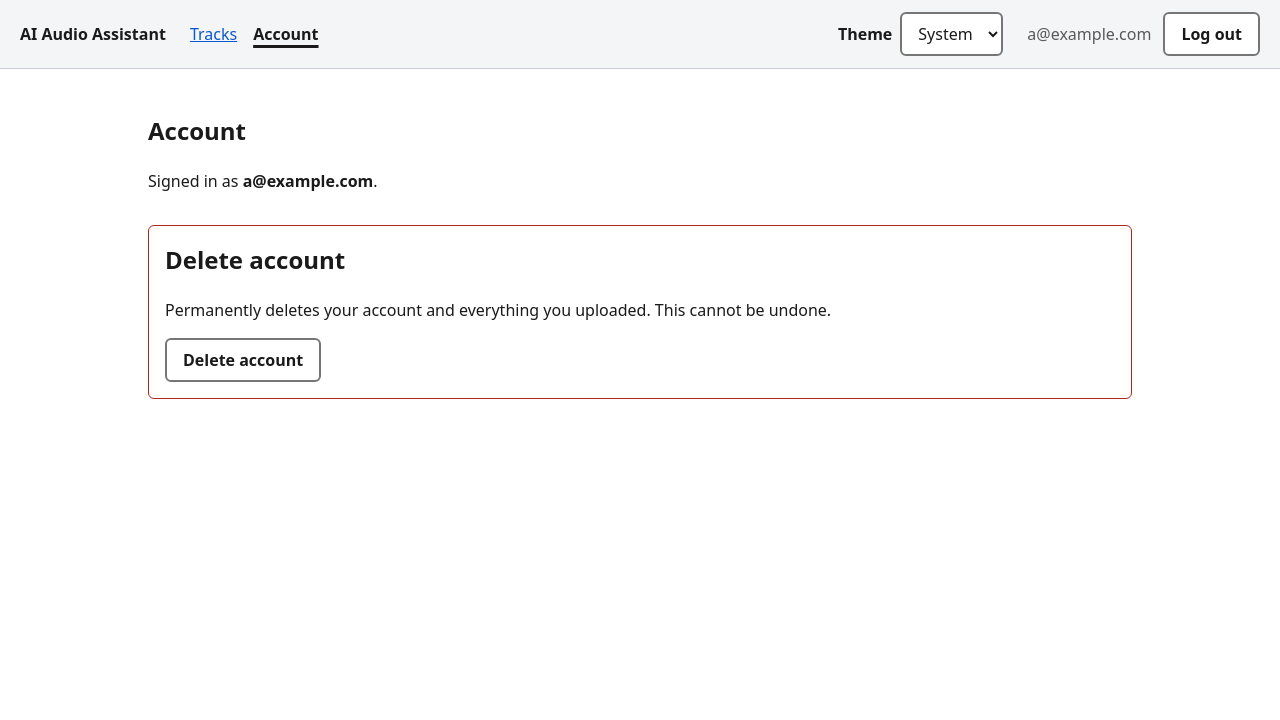
Test: AccountPage › deletes the account, signs out and opens the login page with a notice
This screenshot has width=1280, height=720.
Check: the heading "Account" is shown, box left=148, top=114, right=246, bottom=147
Click the button "Delete account" at [243, 360], box left=165, top=338, right=321, bottom=382
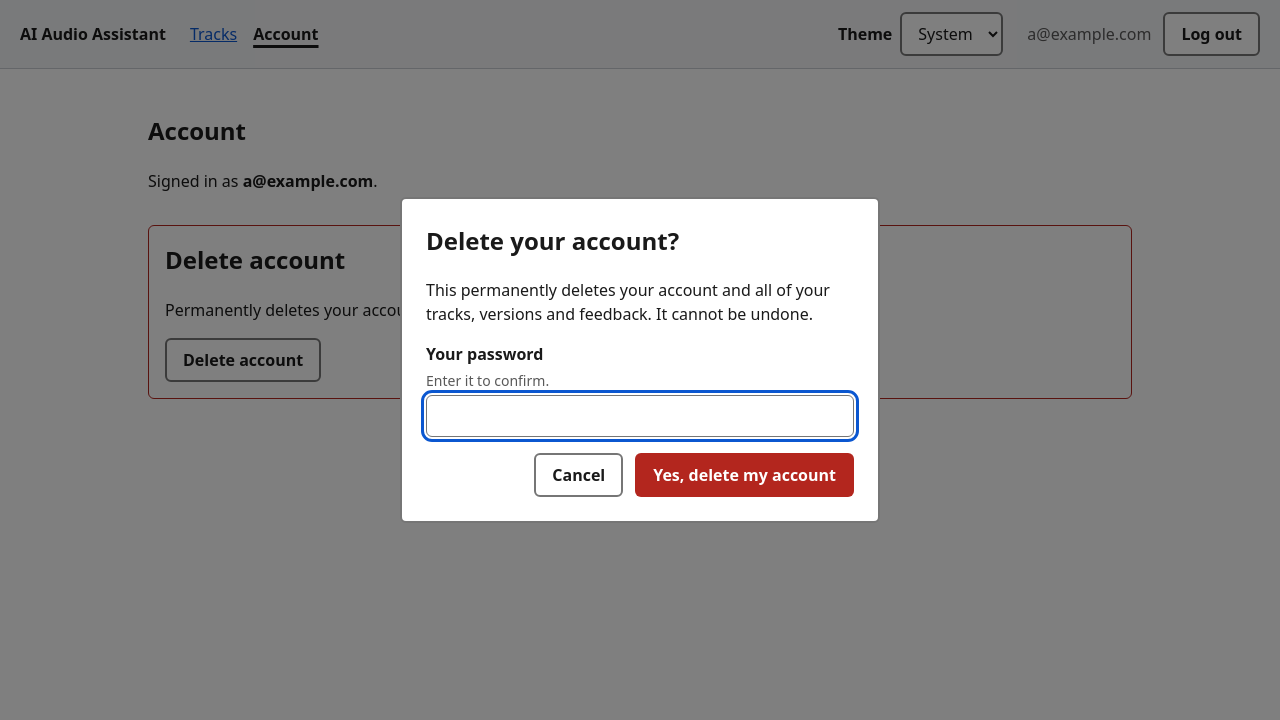
Type "secret-pass" into the password field labelled "Your password" at [640, 416], box left=426, top=396, right=854, bottom=438
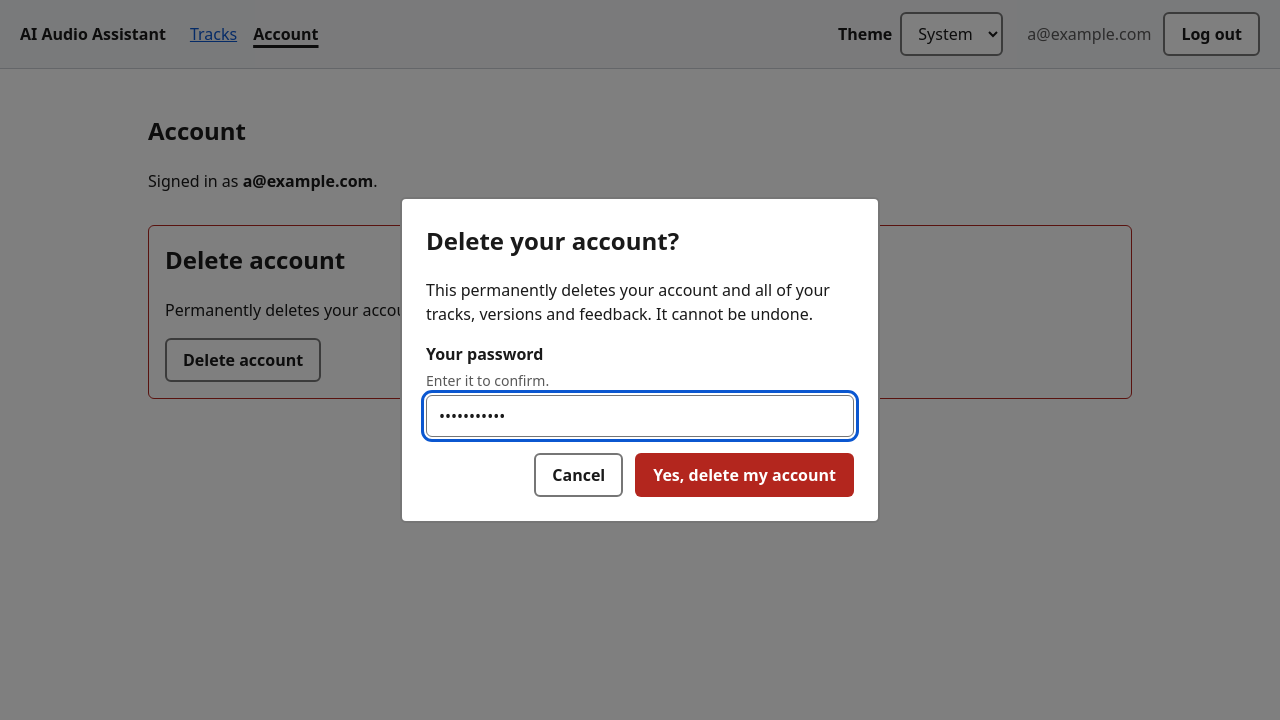
Click the button "Yes, delete my account" at [745, 476], box left=635, top=454, right=854, bottom=498
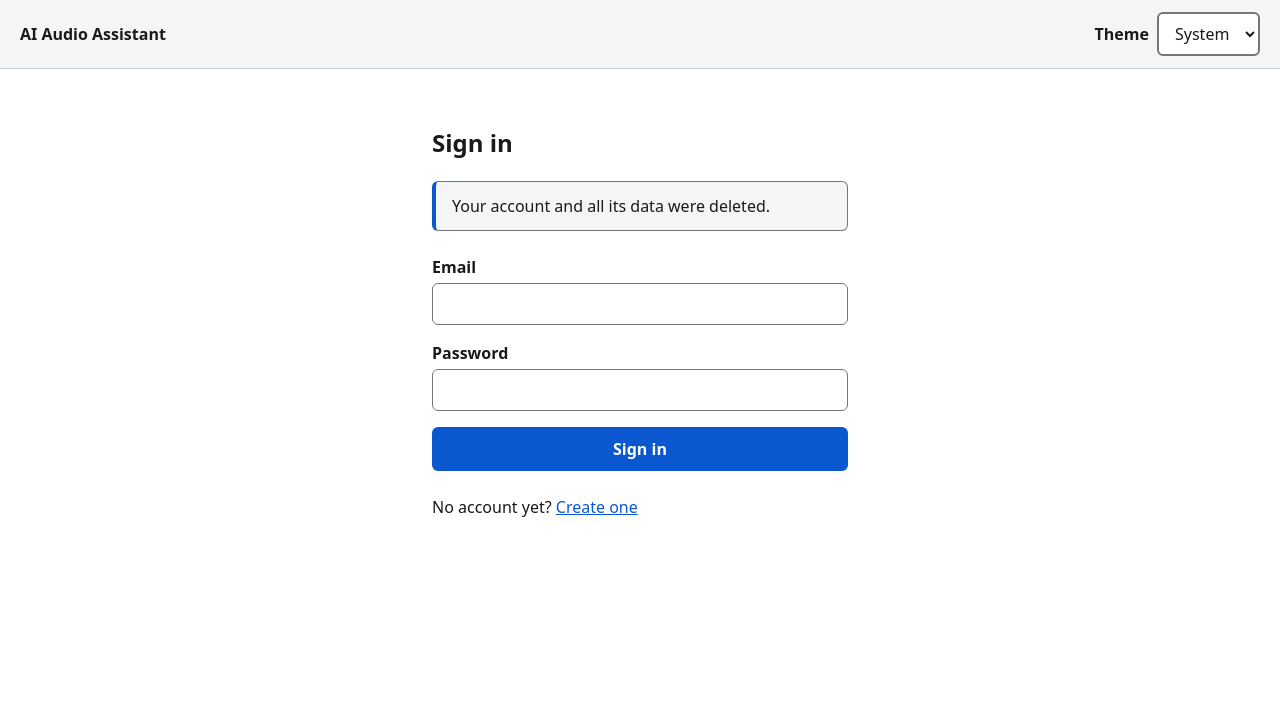
Check: the heading "Sign in" is shown, box left=432, top=126, right=513, bottom=159
Check: the message shows "account and all its data were deleted", box left=452, top=195, right=770, bottom=217
